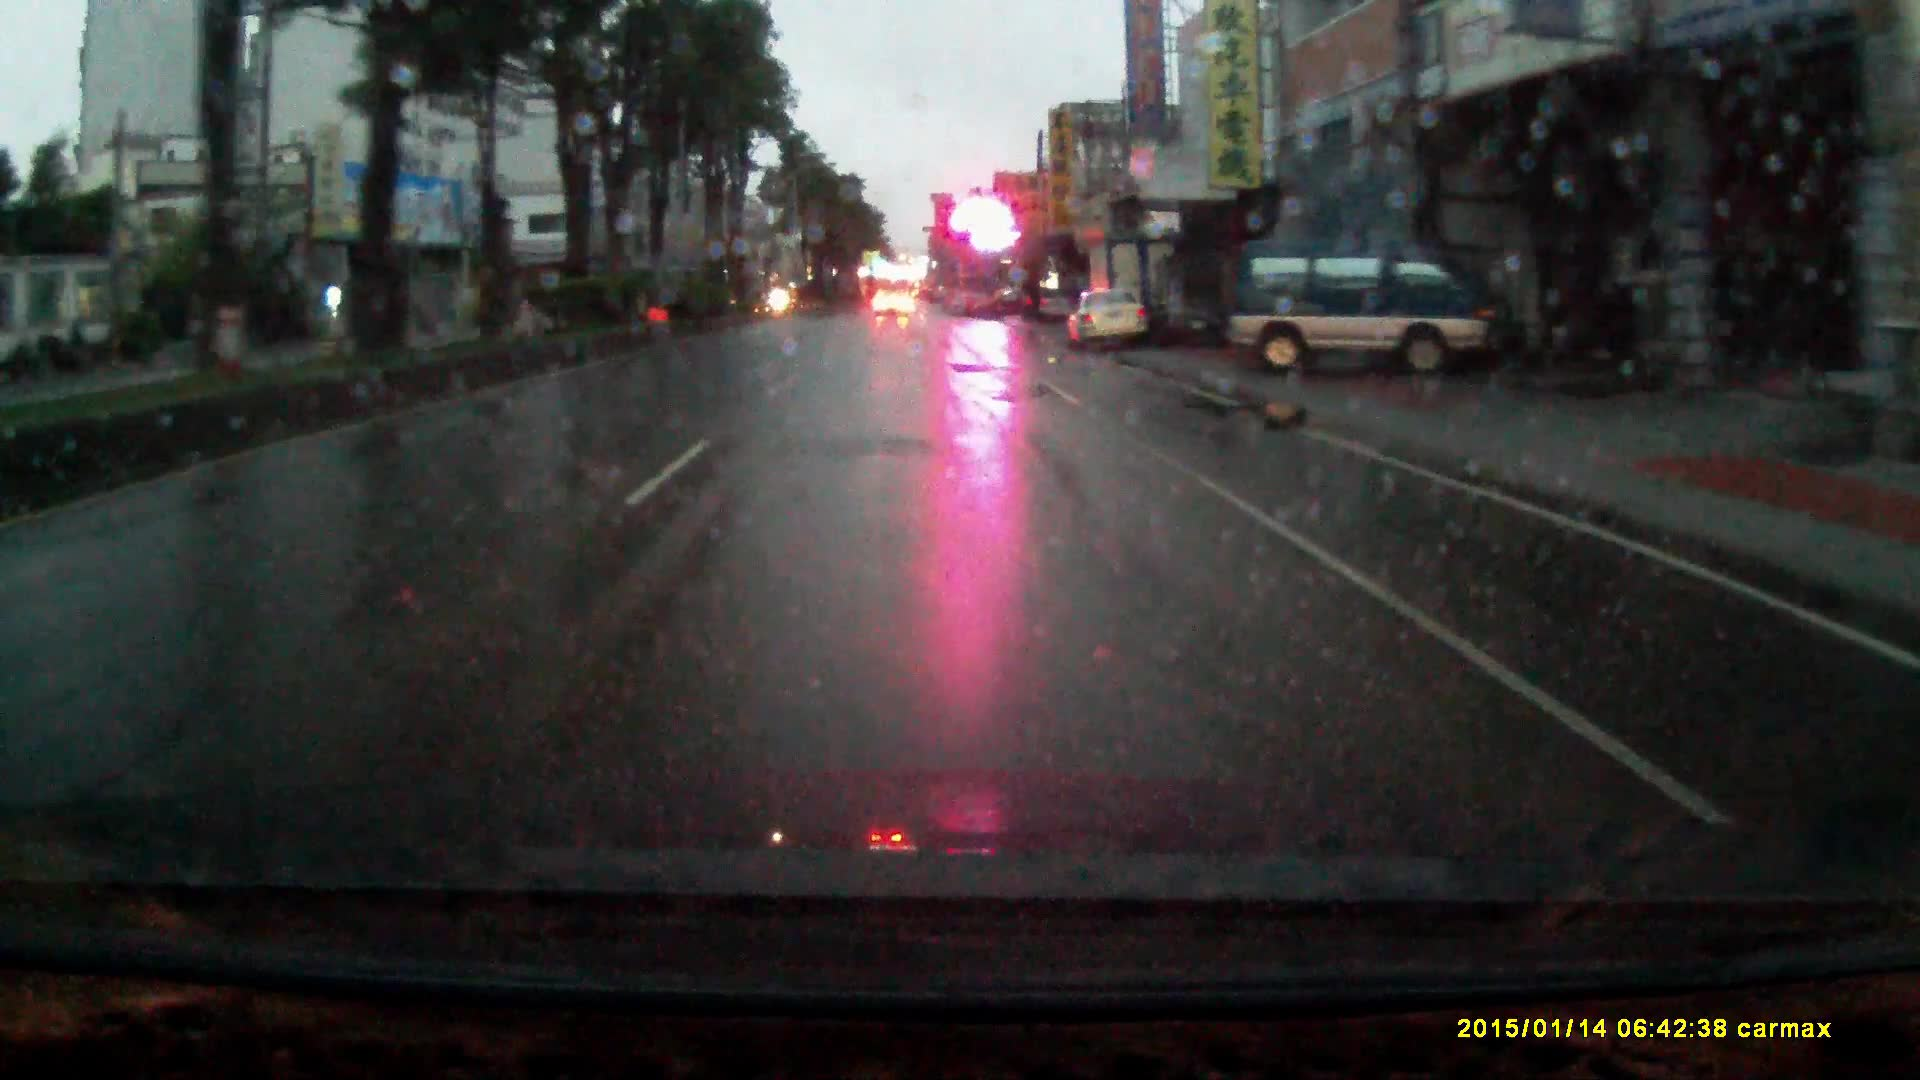vehicle: (1224, 239, 1507, 386), (1084, 241, 1184, 356), (1067, 287, 1151, 359), (876, 287, 913, 320)
